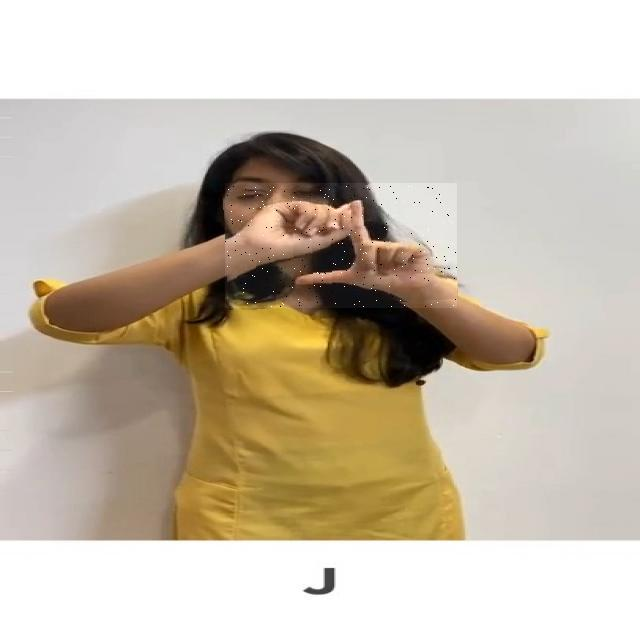J: (225, 183, 457, 308)
